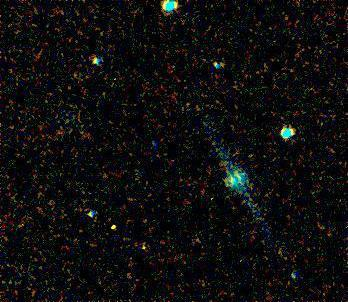star: (99, 214, 129, 244)
